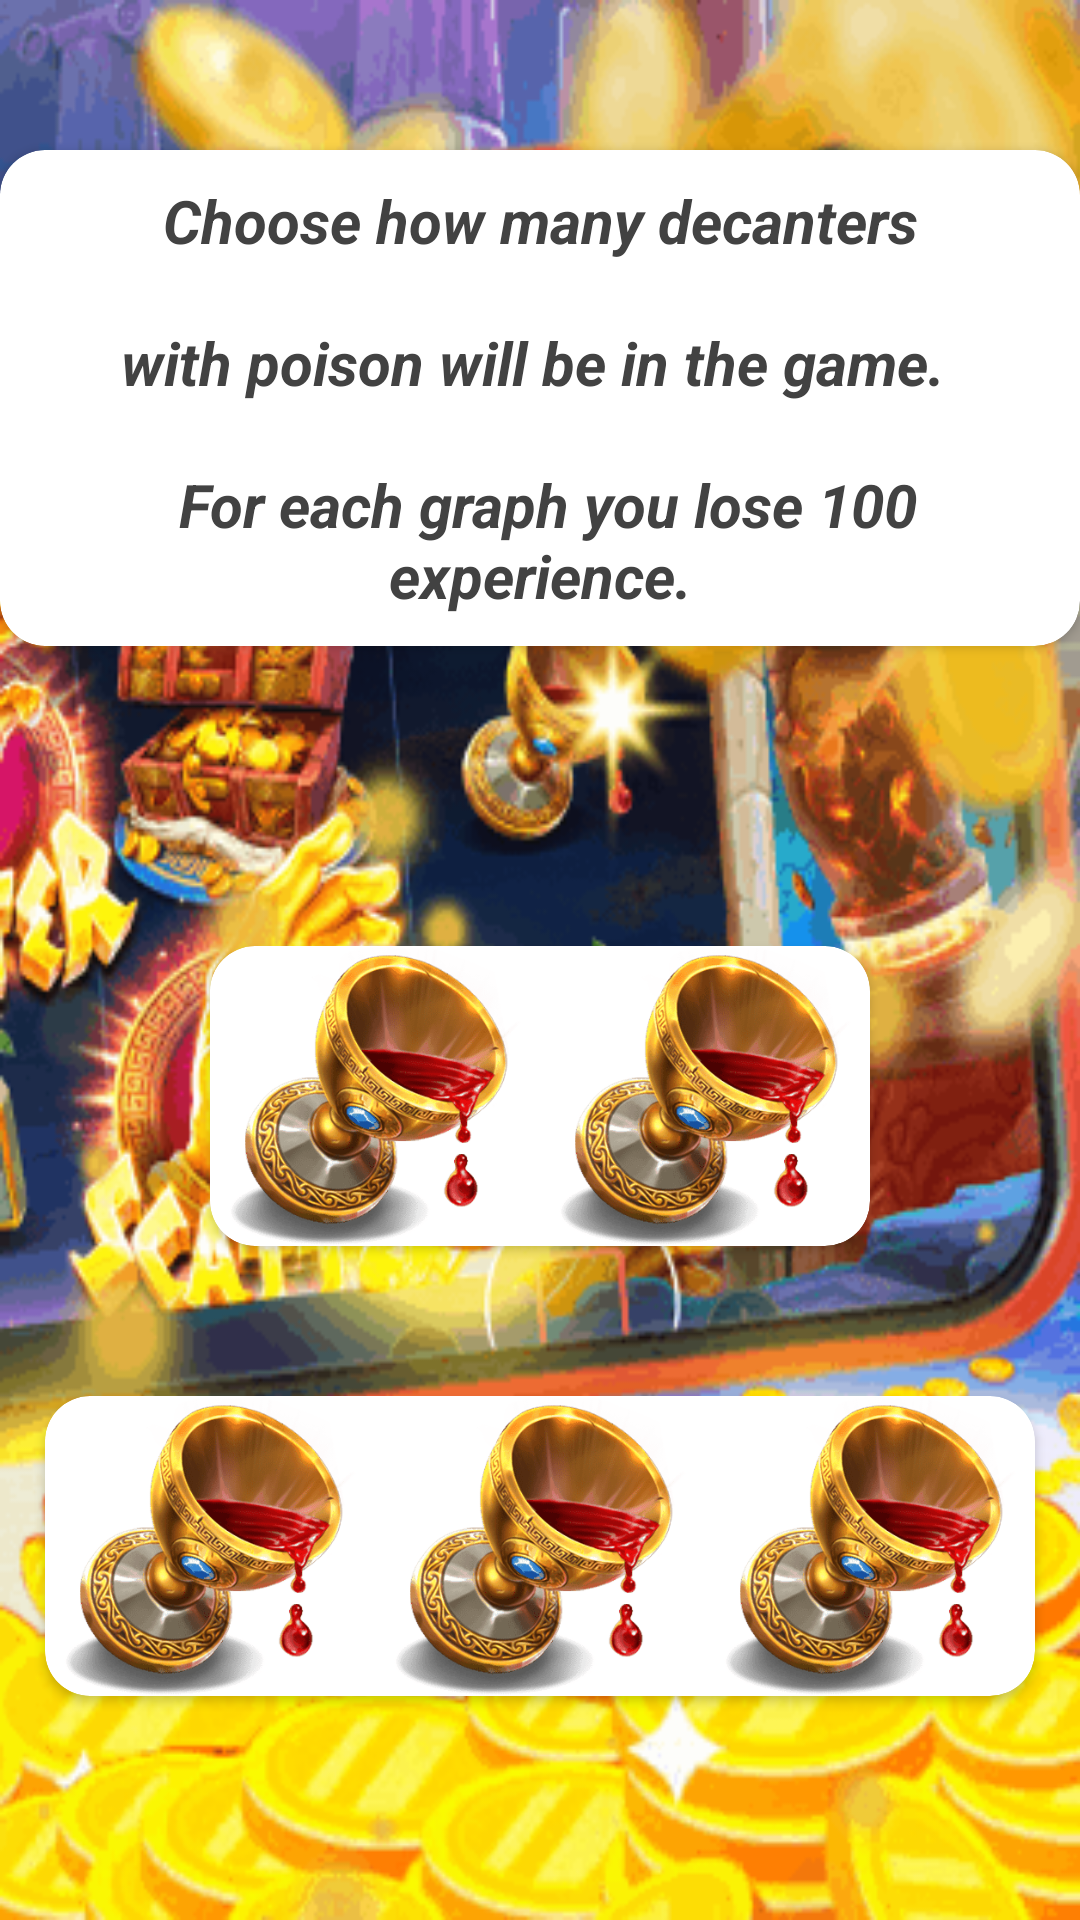

Named icons in this screenshot (1080×1920) and their bounding boxes, (x1, y1, x2, y2):
jug: (235, 955, 508, 1243), (565, 955, 838, 1243), (70, 1405, 343, 1693), (400, 1405, 673, 1693), (730, 1405, 1003, 1693)
